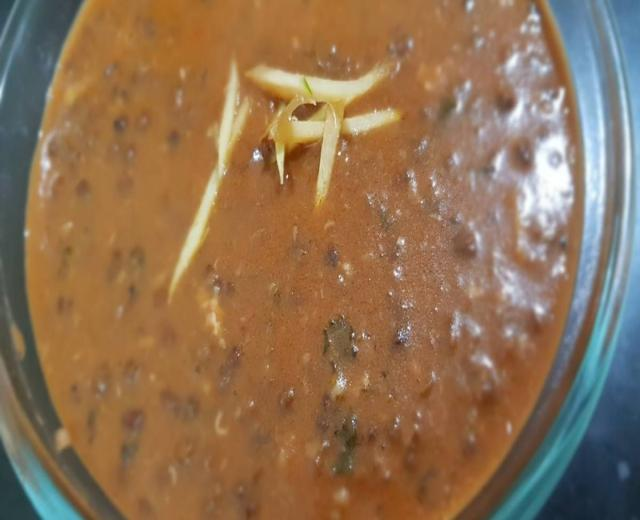dal makhni: (2, 4, 624, 514)
